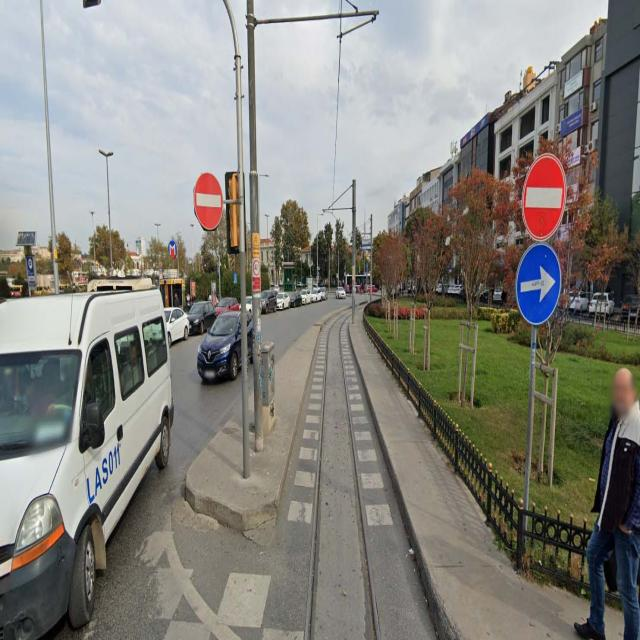girisyok: (522, 155, 565, 239), (195, 174, 222, 229)
sag: (517, 242, 561, 325)
